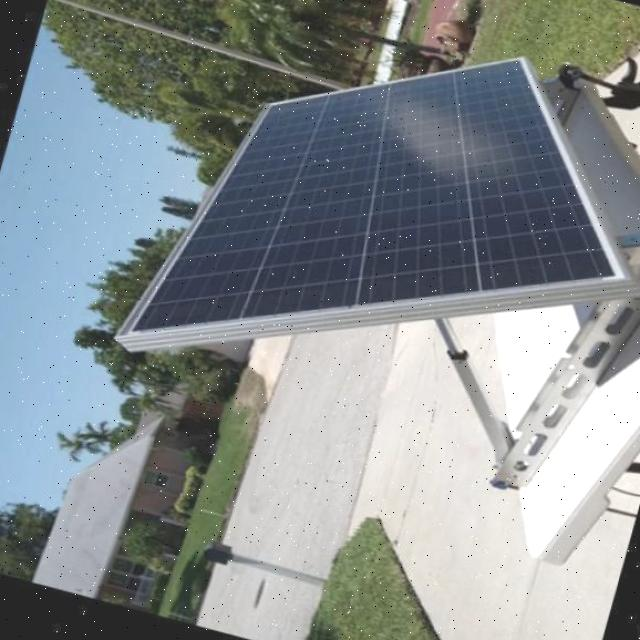Normal Solar Panel: (115, 0, 640, 464)
